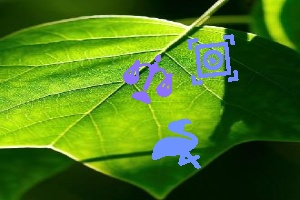丹顶鹤: (153, 120, 205, 169)
天平: (124, 55, 174, 102)
画框: (187, 34, 240, 85)
